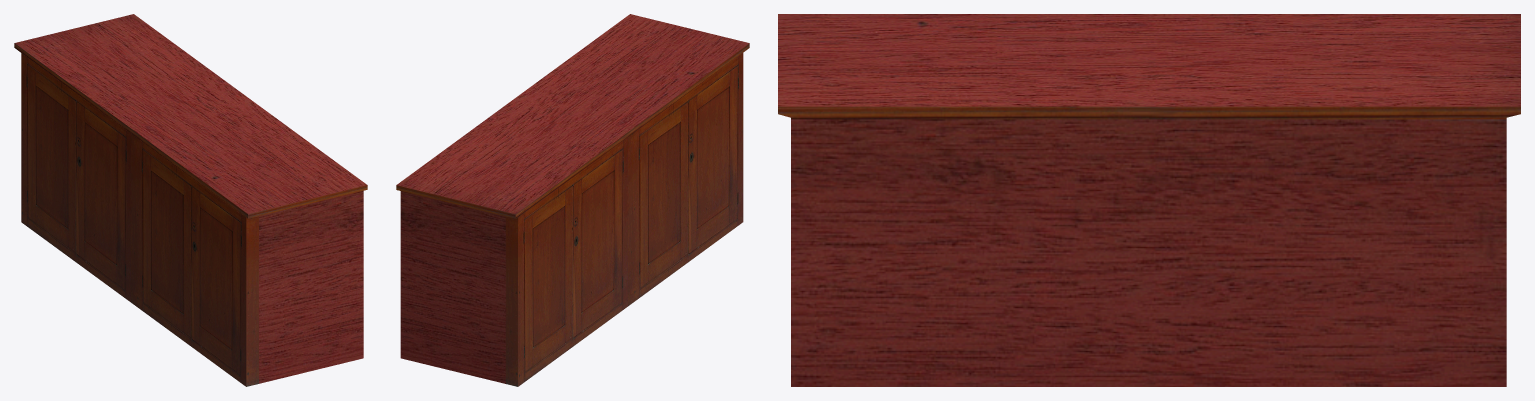
Rendered from cupboard_low.fbx.
The picture shows the model from 3 angles, left to right: view 1: azimuth 30°, elevation 25°; view 2: azimuth 150°, elevation 25°; view 3: azimuth 270°, elevation 25°; orthographic projection. The views are drawn at different scales.
Parts seen in each view (by area): view 1: Mesh1; view 2: Mesh1; view 3: Mesh1.
Part boxes in pixels (x1,y1,x2,y2): Mesh1: [14, 14, 367, 386]; Mesh1: [396, 14, 749, 386]; Mesh1: [778, 14, 1520, 386].
Bounding box in the file's own units: 45.5 × 64.16 × 154.
